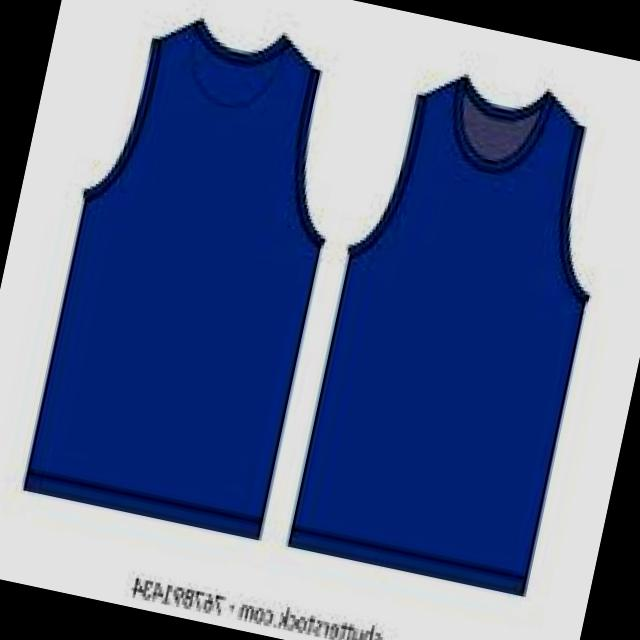no_vest: (20, 0, 367, 541), (284, 54, 630, 596)
